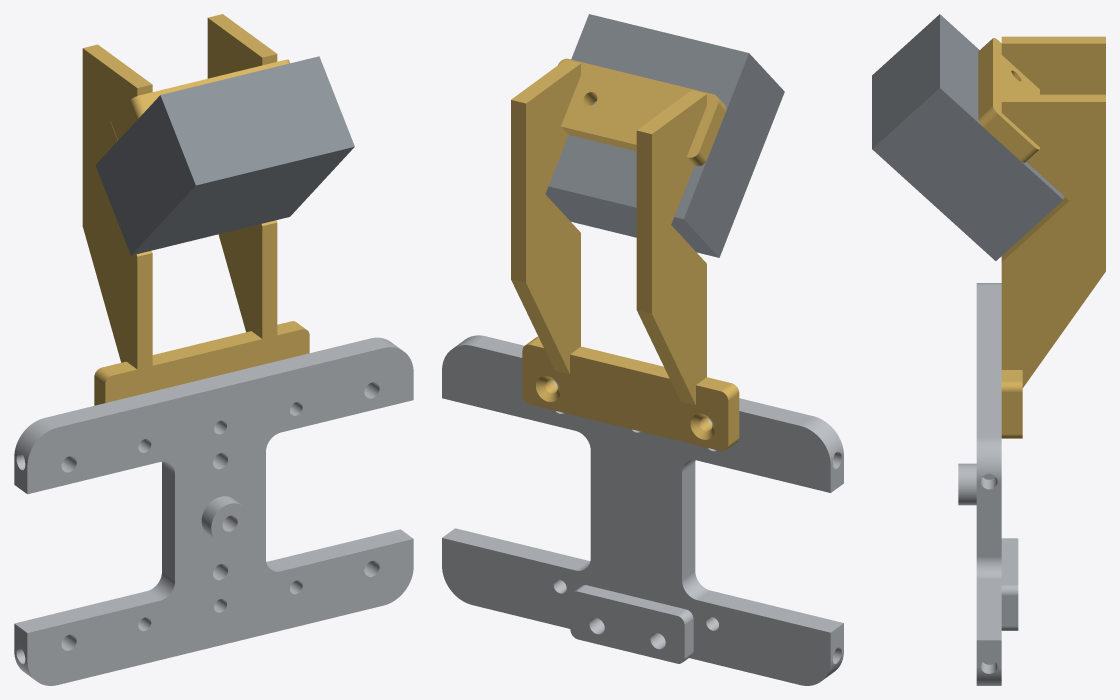
3 views of the same model, side by side, from view 1: azimuth 30°, elevation 25°; view 2: azimuth 150°, elevation 25°; view 3: azimuth 270°, elevation 25° (orthographic). The views are drawn at different scales.
Visible parts, largest first — view 1: base, D405 envelope, D405 bracket; view 2: base, D405 bracket, D405 envelope; view 3: D405 bracket, D405 envelope, base.
Boxes of the visible parts, bbox=[...] form: base: bbox=[14, 337, 413, 685]; D405 envelope: bbox=[95, 56, 354, 255]; D405 bracket: bbox=[82, 14, 309, 405]; base: bbox=[442, 335, 843, 685]; D405 bracket: bbox=[511, 58, 739, 451]; D405 envelope: bbox=[545, 14, 784, 257]; D405 bracket: bbox=[978, 36, 1105, 438]; D405 envelope: bbox=[872, 14, 1063, 260]; base: bbox=[958, 283, 1018, 685].
Bounding box in the file's own units: 102 × 147 × 56.11.
